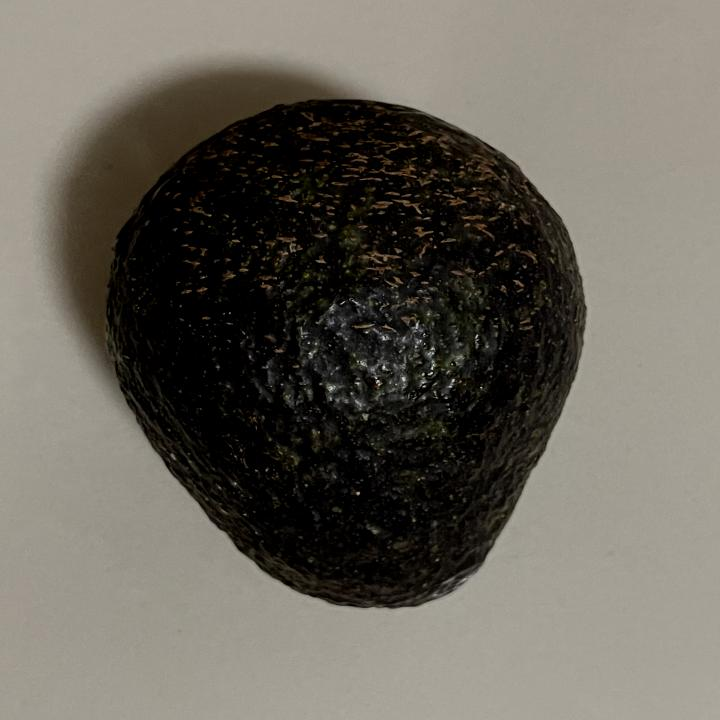Level1: (90, 88, 604, 624)
